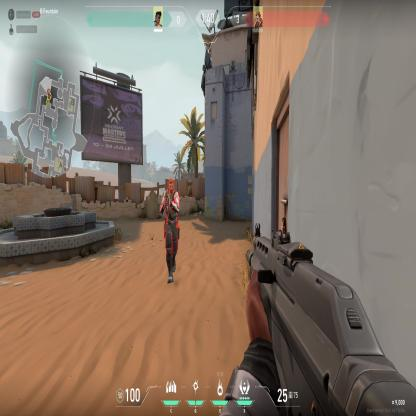enemy: (161, 176, 181, 286)
